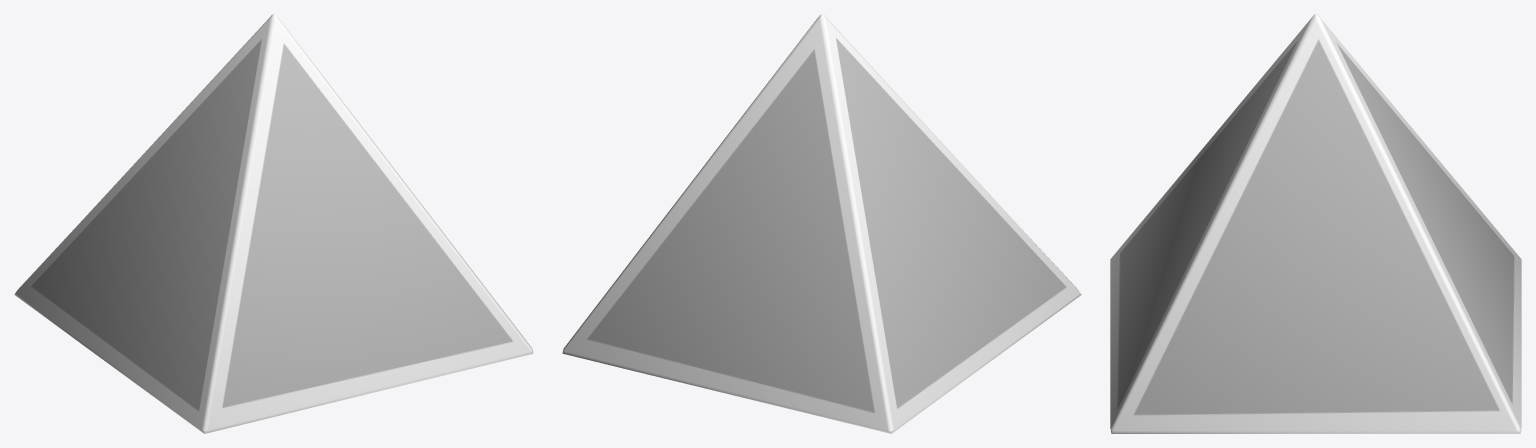
Rendered from Crystal.FBX.
The picture shows the model from 3 angles, left to right: view 1: azimuth 30°, elevation 25°; view 2: azimuth 150°, elevation 25°; view 3: azimuth 270°, elevation 25°; orthographic projection. The views are drawn at different scales.
Visible parts, largest first — view 1: Crystal 2; view 2: Crystal 2; view 3: Crystal 2.
Part boxes in pixels (bbox=[...]): Crystal 2: bbox=[14, 14, 533, 433]; Crystal 2: bbox=[562, 14, 1081, 433]; Crystal 2: bbox=[1110, 14, 1521, 433].
Size of the model in its own units: 18.72 by 16.74 by 18.72.
Materials: 1 (1 with a texture image).
